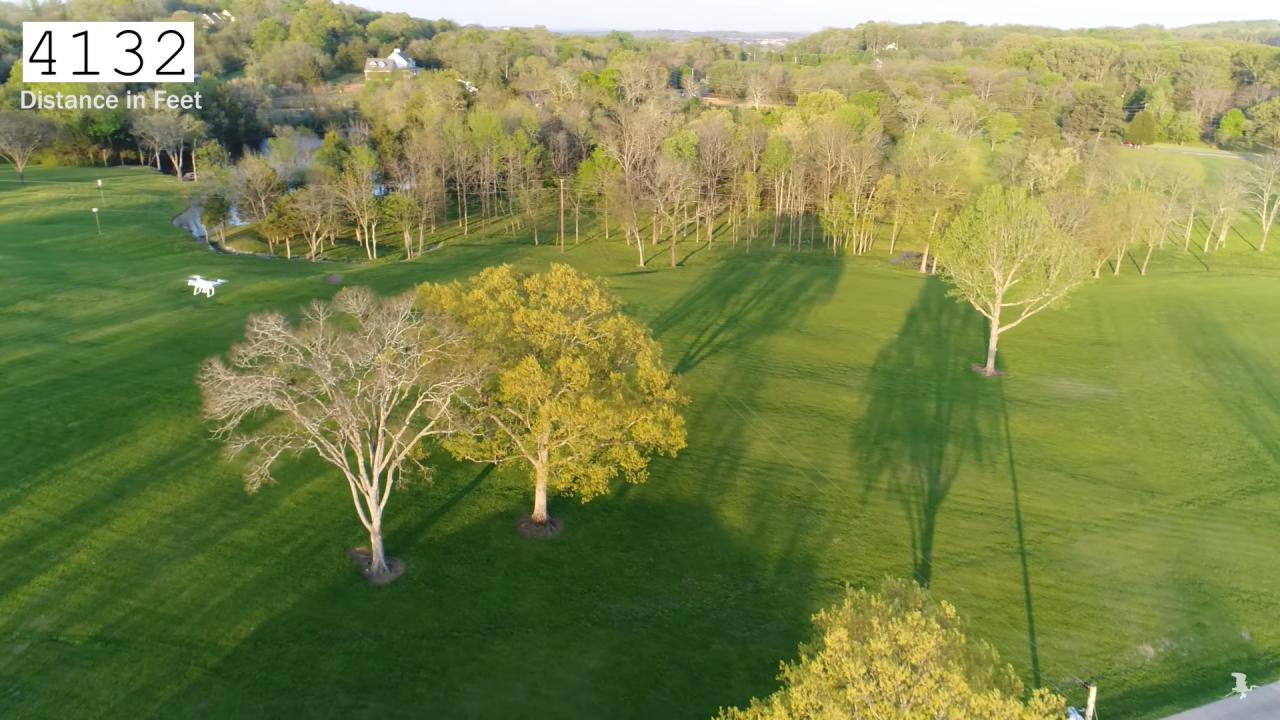Drone: (177, 269, 233, 302)
